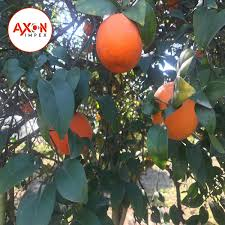orange: (150, 81, 201, 143), (90, 14, 145, 71), (46, 108, 95, 157)
